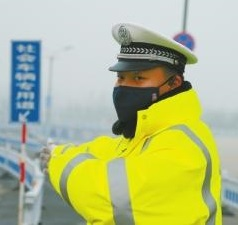person: (40, 20, 227, 223)
